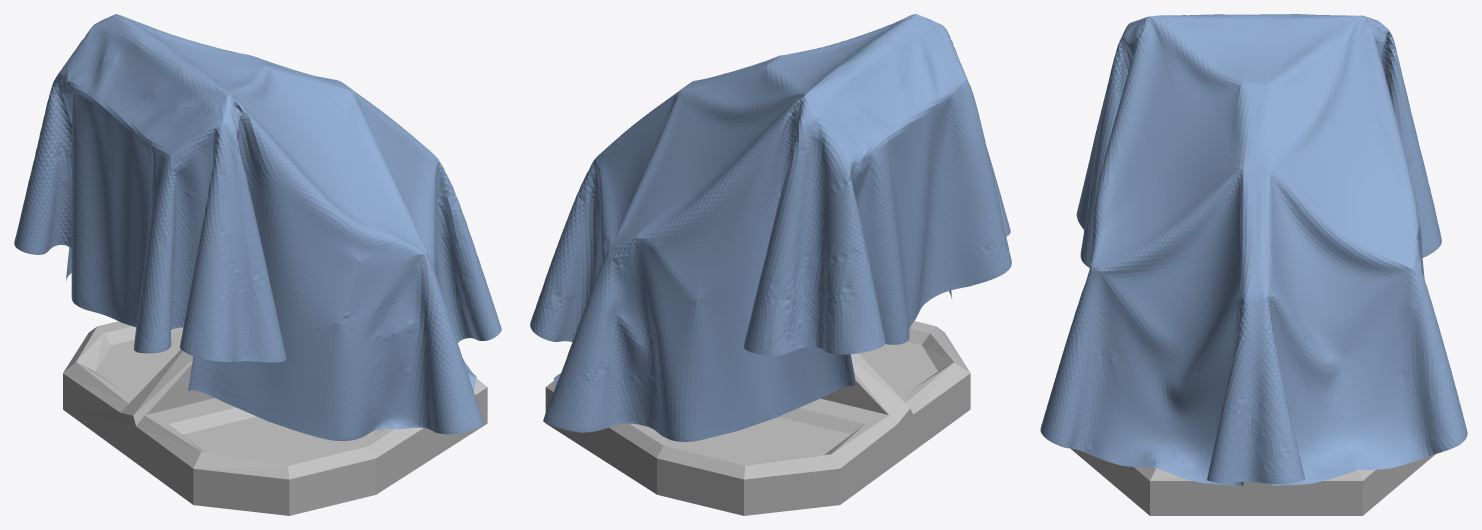
The model's file is level_3.glb.
The picture shows the model from 3 angles, left to right: view 1: azimuth 30°, elevation 25°; view 2: azimuth 150°, elevation 25°; view 3: azimuth 270°, elevation 25°; orthographic projection. The views are drawn at different scales.
Parts seen in each view (by area): view 1: world, object.obj; view 2: world, object.obj; view 3: world, object.obj.
Part boxes in pixels (<box>): world: <box>14,14,501,440</box>; object.obj: <box>63,321,487,515</box>; world: <box>530,14,1011,441</box>; object.obj: <box>545,321,970,515</box>; world: <box>1040,14,1467,485</box>; object.obj: <box>1071,448,1435,515</box>.
Bounding box in the file's own units: 0.3264 × 0.3009 × 0.3082.
